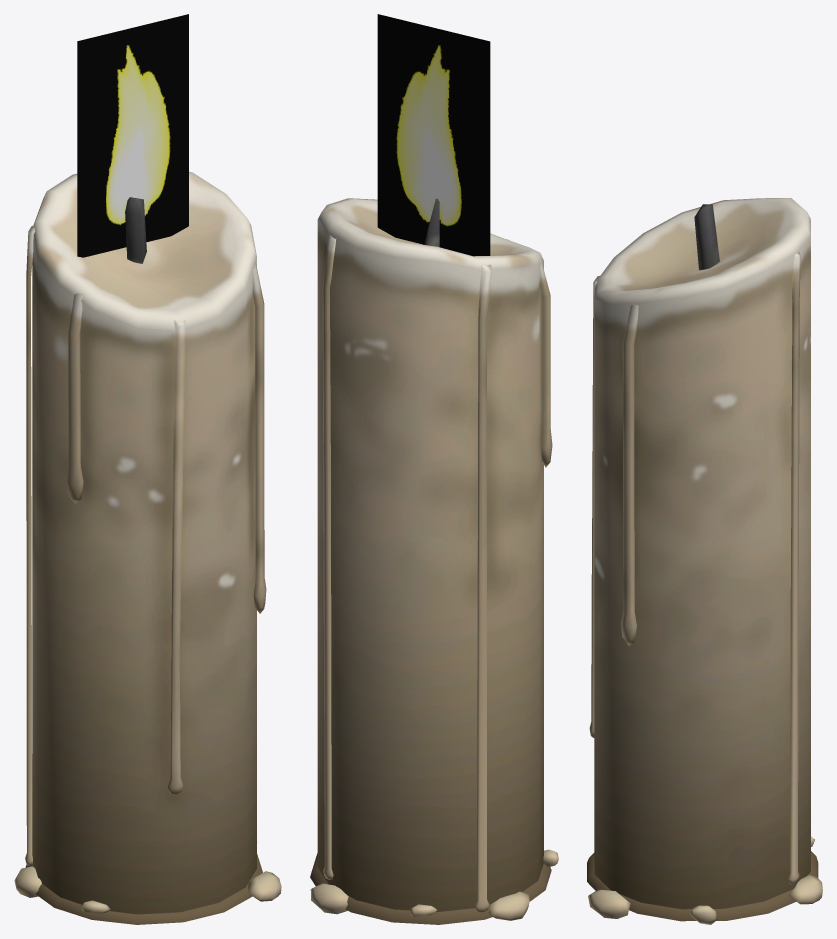
The model's file is SM_Candle_03.gltf.
3 views of the same model, side by side, from view 1: azimuth 30°, elevation 25°; view 2: azimuth 150°, elevation 25°; view 3: azimuth 270°, elevation 25° (orthographic). The views are drawn at different scales.
Parts seen in each view (by area): view 1: SM_Candle_03; view 2: SM_Candle_03; view 3: SM_Candle_03.
Boxes of the visible parts, x1,y1,x2,y2 form: SM_Candle_03: [14, 14, 281, 924]; SM_Candle_03: [310, 14, 558, 924]; SM_Candle_03: [587, 198, 822, 924].
Size of the model in its own units: 0.0751 by 0.2791 by 0.0716.
Materials: 2 (2 with a texture image).
